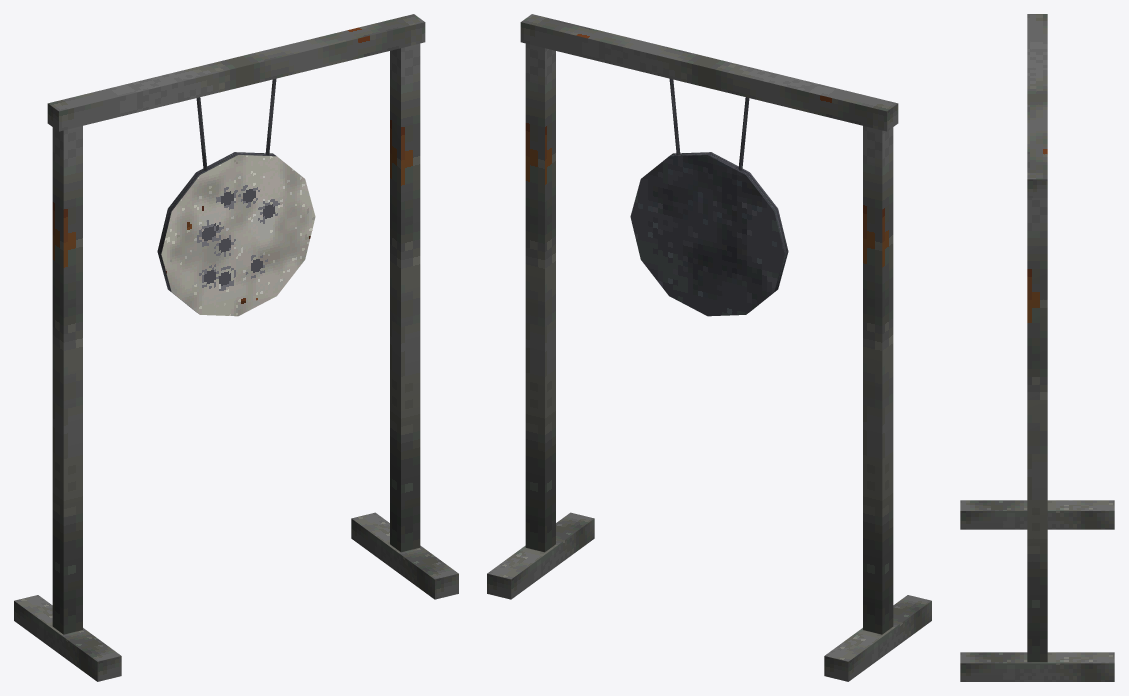
The model's file is target_steel.glb.
3 renders of one model, left to right at view 1: azimuth 30°, elevation 25°; view 2: azimuth 150°, elevation 25°; view 3: azimuth 270°, elevation 25°, orthographic. The views are drawn at different scales.
Visible parts, largest first — view 1: target_steel, target_steel_plate; view 2: target_steel, target_steel_plate; view 3: target_steel.
Part boxes in pixels (x1,y1,x2,y2): target_steel: (14, 14, 458, 681); target_steel_plate: (157, 79, 315, 316); target_steel: (487, 14, 931, 681); target_steel_plate: (630, 79, 788, 316); target_steel: (960, 14, 1114, 681).
Bounding box in the file's own units: 0.76 × 1.08 × 0.3.
2 materials, 2 textured.
